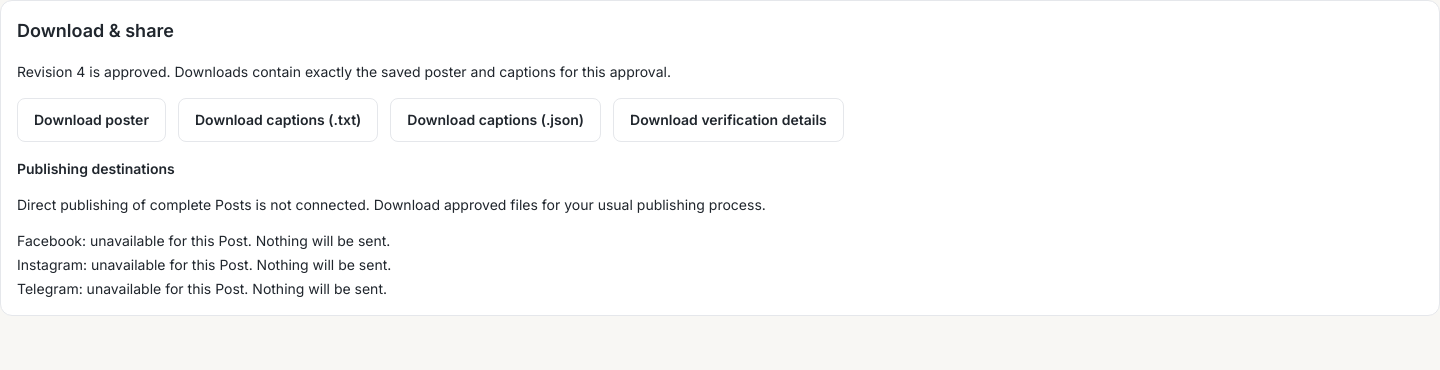
Test: approved Post actions › downloads only the displayed approval and exposes unavailable publishing destinations truthfully
Click the button "Download poster" at [92, 120], box [17,98,166,142]
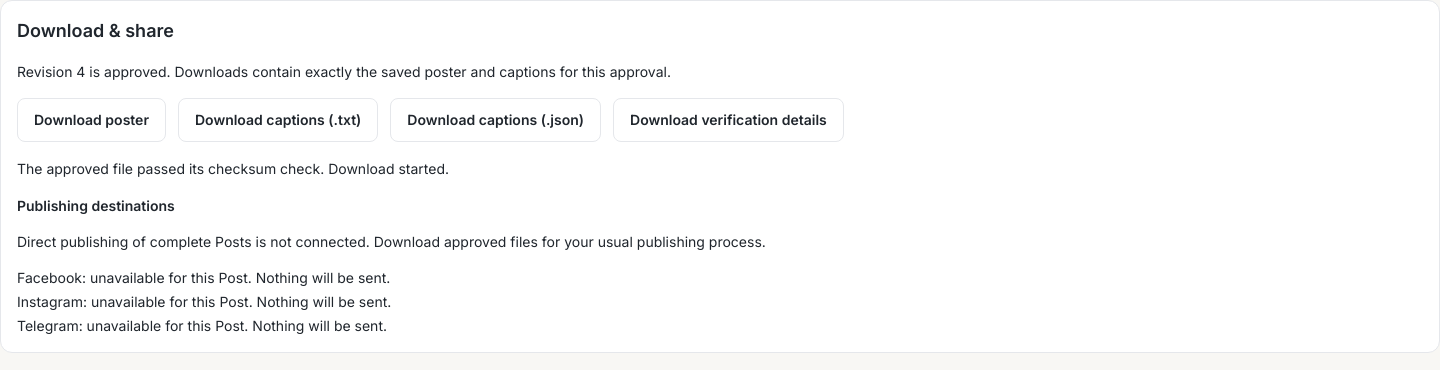
Expected: the list item "Facebook: unavailable for this Post. Nothing will be sent." is shown, [17,269,390,286]
Expected: the text "The approved file passed its checksum check. Download started." is shown, [17,160,449,177]
